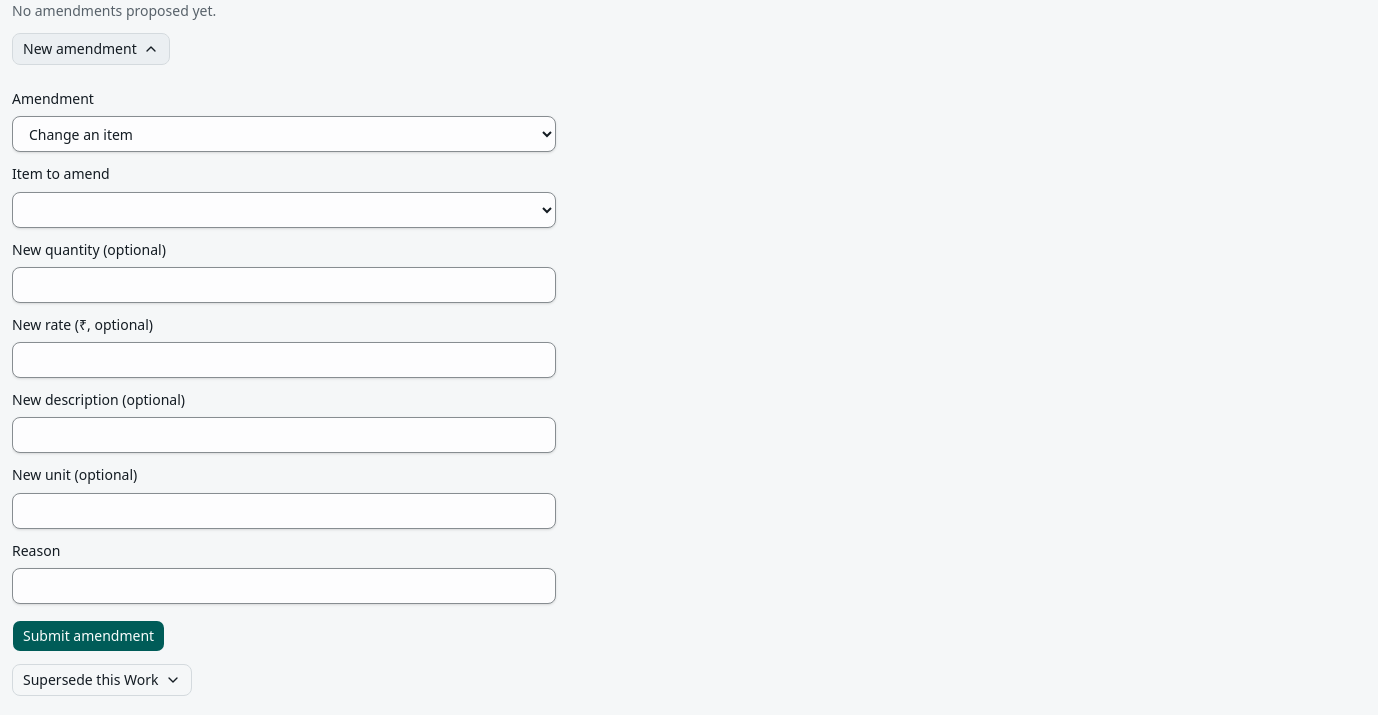
Scenario: the supersede panel › names every register that holds a document, and offers no form
(page scrolled)
Click the button "Supersede this Work": (102, 680) [12,664,192,696]
(page scrolled)
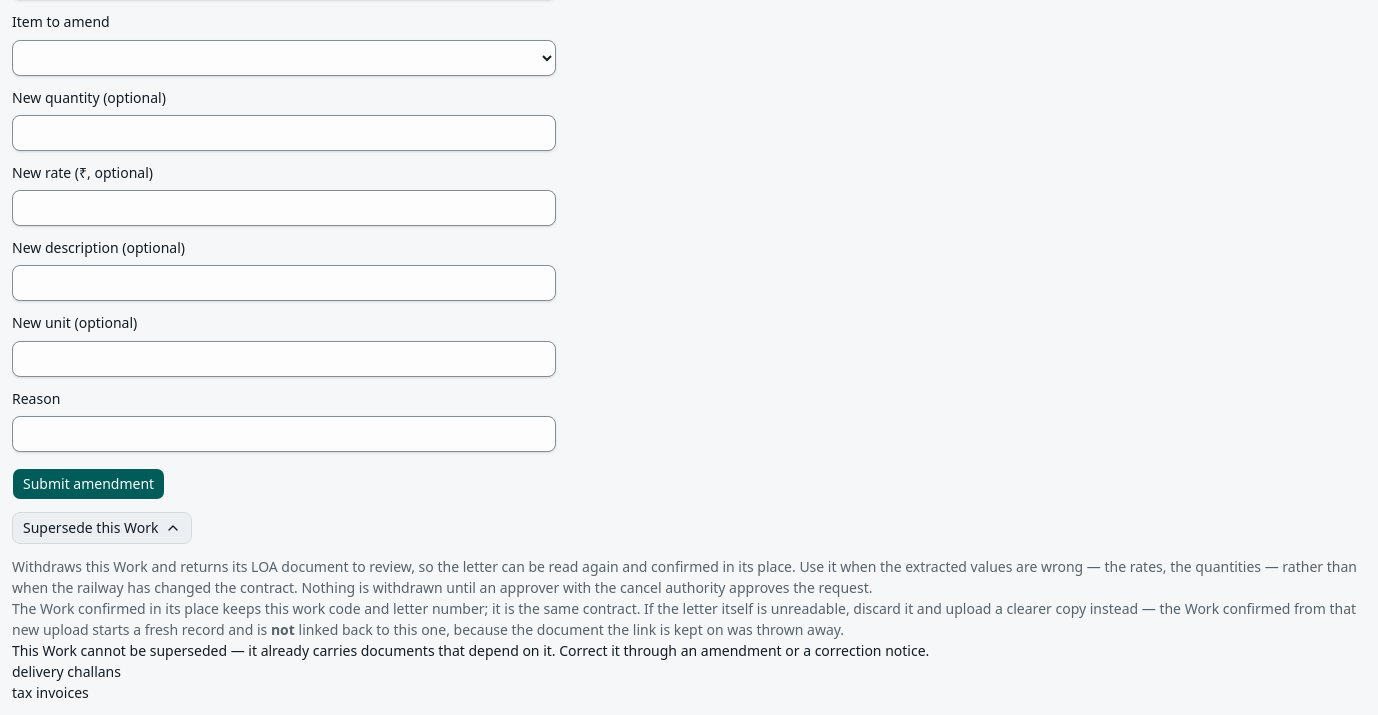
expect the list item "delivery challans" is shown: met, box [12,662,121,681]
expect the list item "tax invoices" is shown: met, box [12,683,89,702]
